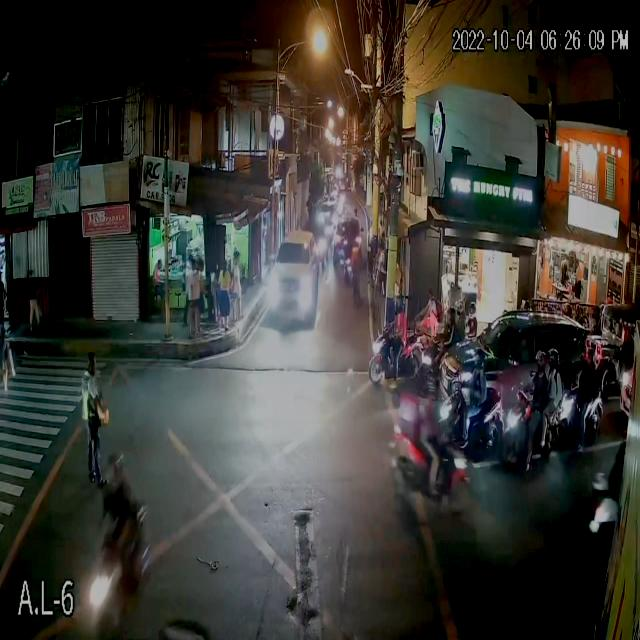Full-Faced: (452, 296, 466, 322), (465, 300, 479, 322), (393, 295, 405, 315)
Half-Faced: (530, 346, 550, 376), (543, 339, 560, 372)
